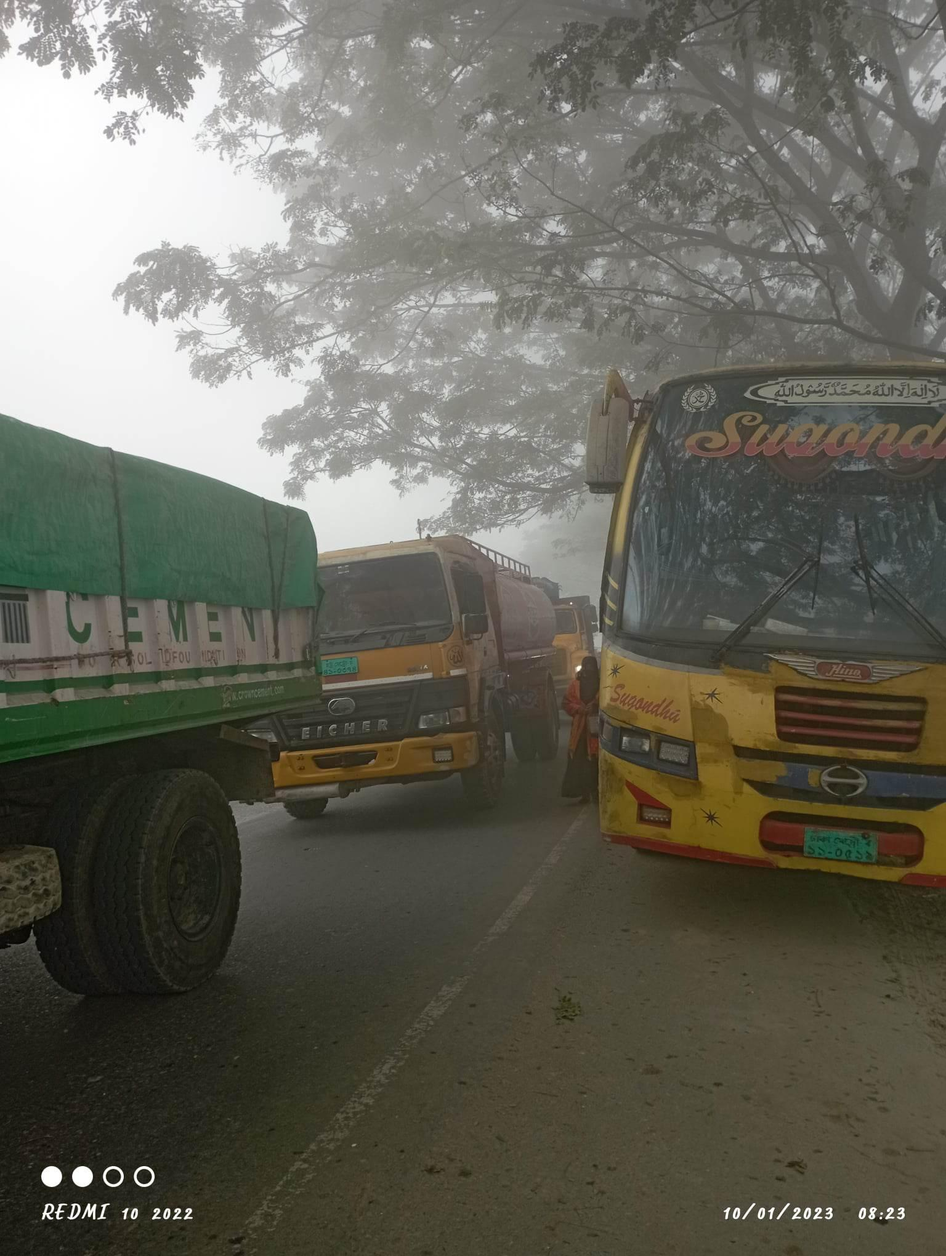Bus: (583, 336, 946, 927)
Truck: (5, 404, 336, 1029), (310, 515, 560, 822)
